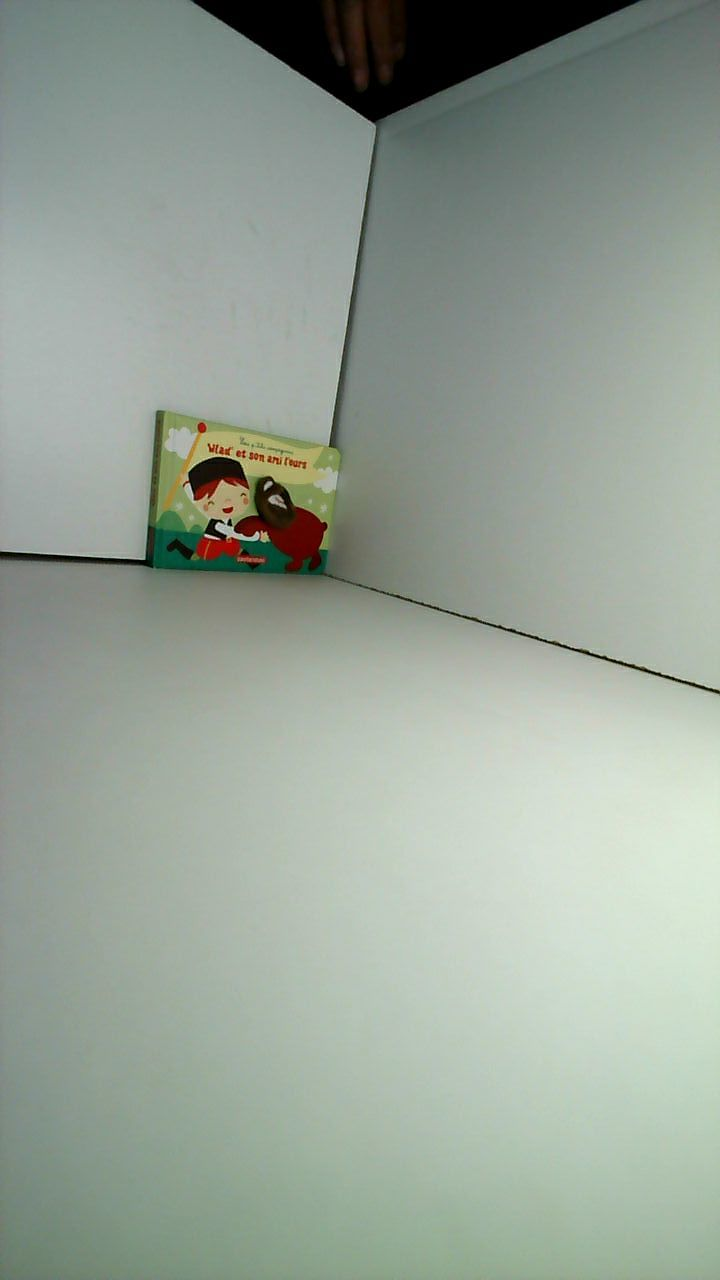book: (110, 376, 384, 626)
